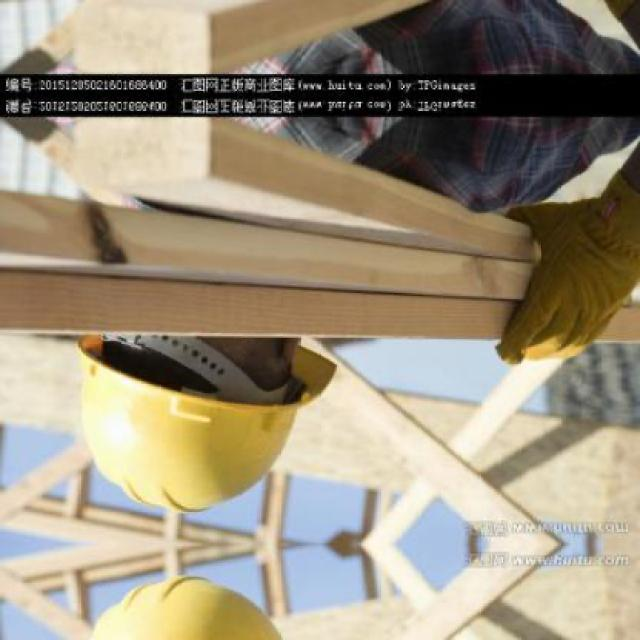con casco: (52, 329, 353, 514)
